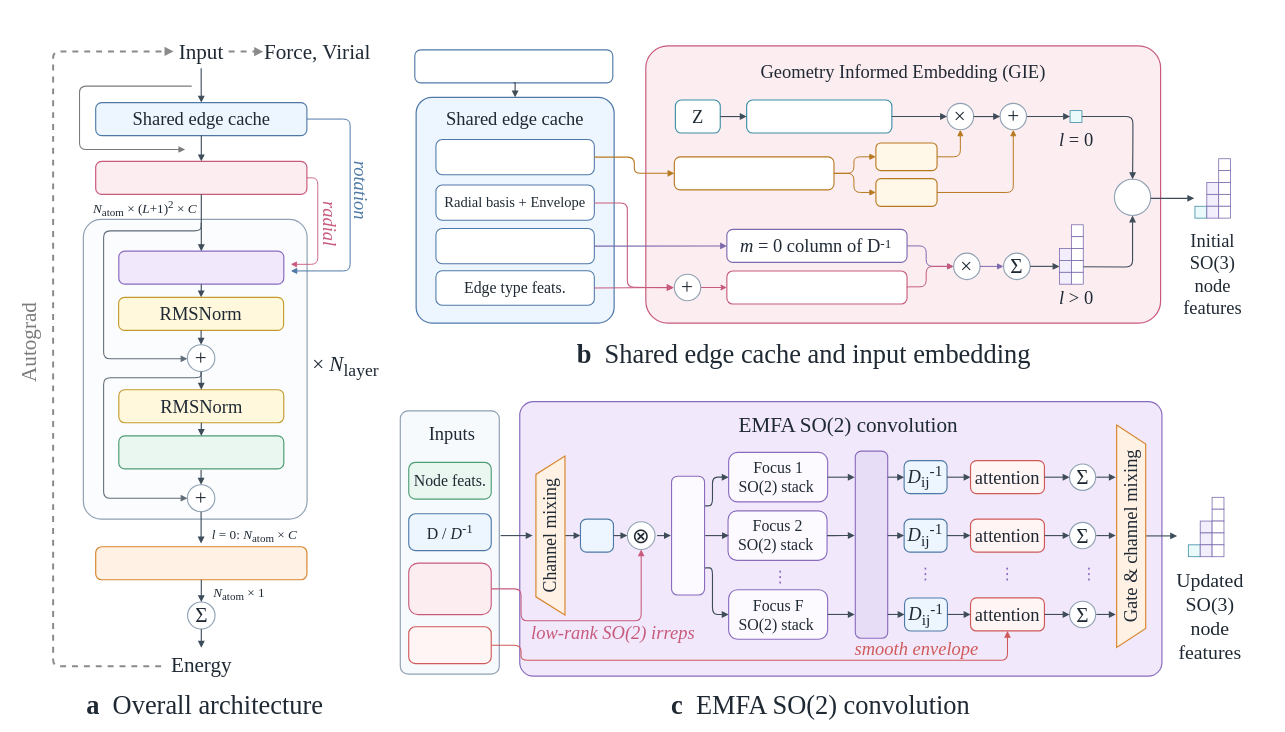
Image size: 1285x732. Some labels were removed from this diagram. Each missing label, with the centre of its shape:
Atomic energy head: (x=201, y=563)
cat: (x=1132, y=197)
D ij: (x=597, y=535)
EMFA SO(2) conv.: (x=201, y=267)
Envelope: (x=449, y=645)
Environ. feats.: (x=753, y=173)
Equivariant FFN: (x=201, y=452)
Focus compet.: (x=871, y=544)
Focus split: (x=688, y=535)
GIE: (x=201, y=177)
Input: r, Z, neighbor list: (x=513, y=66)
r, |r|: (x=515, y=157)
Radial & type feats.: (x=449, y=588)
Radial-species profile: (x=816, y=287)
Scale γ: (x=906, y=156)
Shift β: (x=906, y=192)
Type features: (x=819, y=116)
Wigner-D / D -1: (x=515, y=246)
